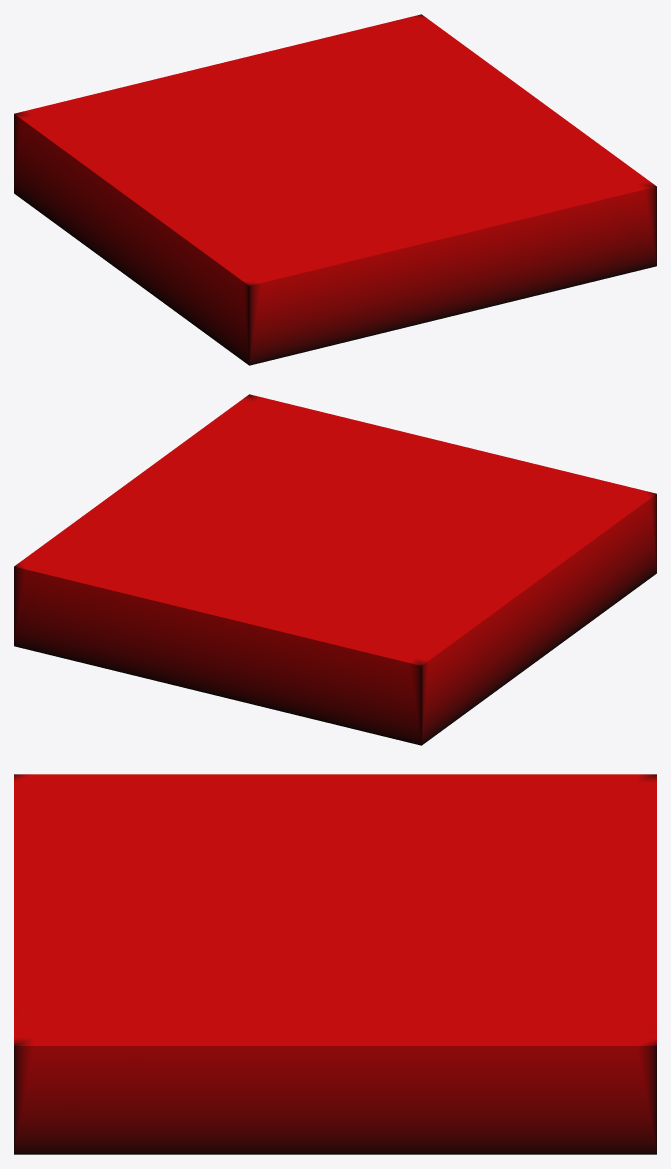
Rendered from WaterMesh.dae.
3 views of the same model, one above another, from view 1: azimuth 30°, elevation 25°; view 2: azimuth 150°, elevation 25°; view 3: azimuth 270°, elevation 25° (orthographic). The views are drawn at different scales.
Visible parts, largest first — view 1: Cube; view 2: Cube; view 3: Cube.
Boxes of the visible parts, x1=… form: Cube: x1=14, y1=14, x2=656, y2=365; Cube: x1=14, y1=394, x2=656, y2=745; Cube: x1=14, y1=774, x2=656, y2=1154.
Size of the model in its own units: 9.18 by 9.18 by 1.71.
